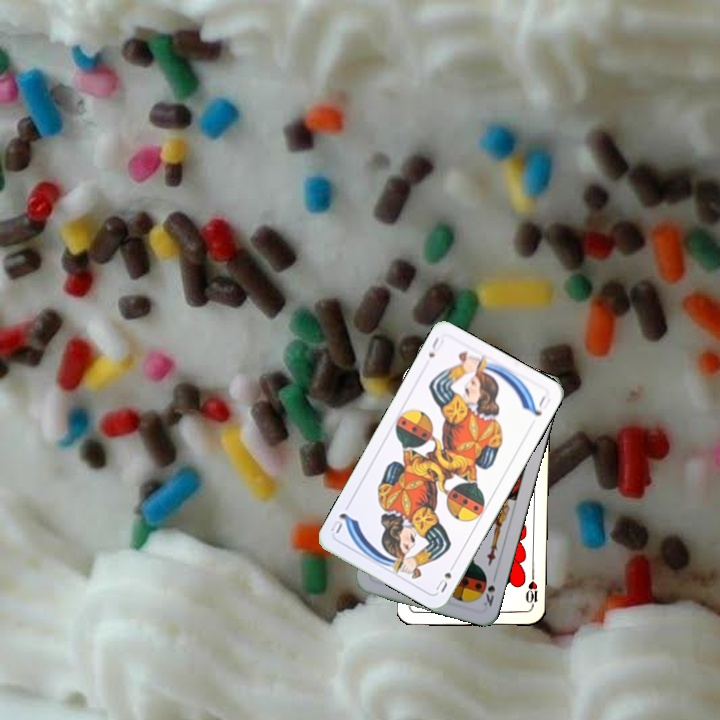H10: (521, 570, 540, 611)
SK: (477, 574, 498, 610)
SU: (432, 558, 459, 595), (424, 333, 445, 360)
